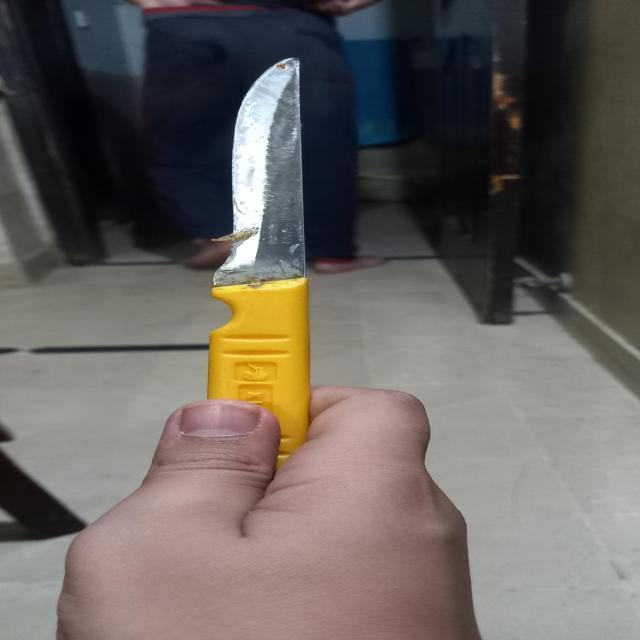faca: (210, 57, 306, 468)
